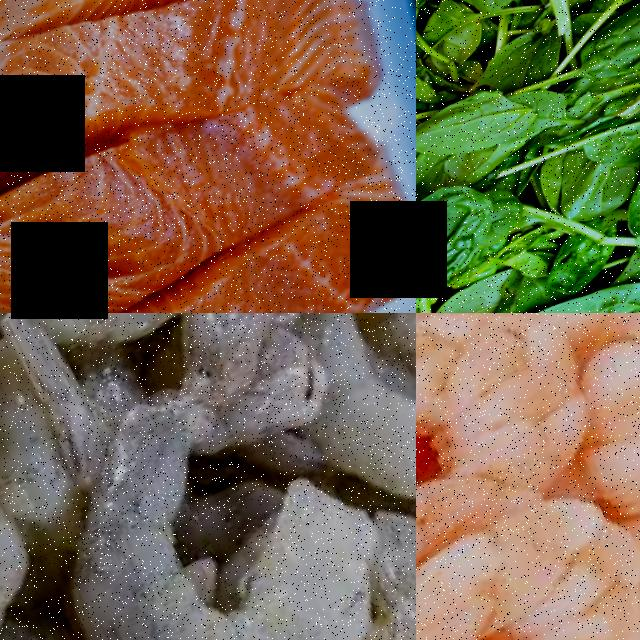salmon: (0, 89, 277, 313), (0, 176, 416, 313), (0, 0, 130, 266), (0, 0, 206, 112)
shrimp: (0, 341, 416, 640), (416, 313, 628, 615), (416, 468, 640, 640), (28, 313, 332, 400), (0, 382, 69, 640), (0, 313, 219, 382)
spinach: (416, 73, 538, 182), (416, 170, 507, 303), (441, 254, 640, 313), (564, 0, 640, 104), (605, 149, 640, 250)
